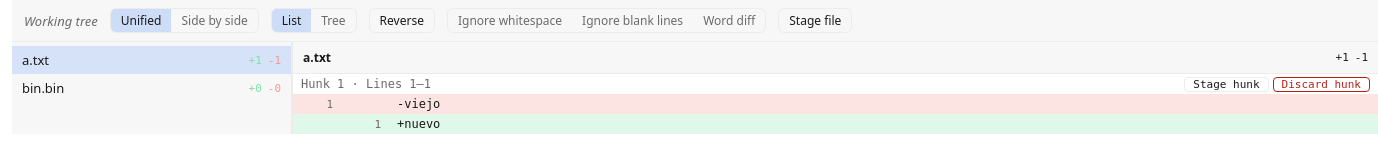
DiffView › hides stage and discard with the reversed diff
Click the button "Unified" at (141, 20), box [111, 9, 172, 32]
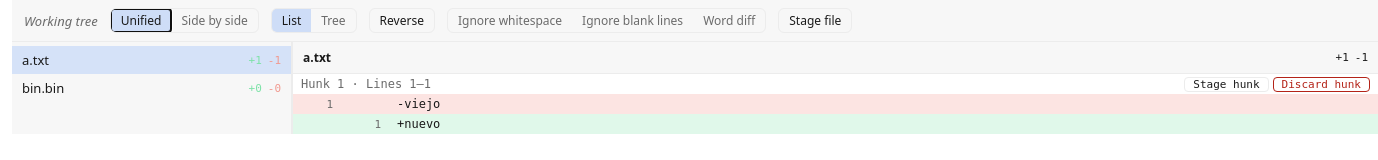
Check: the button "Stage hunk" is shown, box [1184, 76, 1268, 92]
Click the button "Reverse" at (402, 20), box [369, 8, 435, 33]
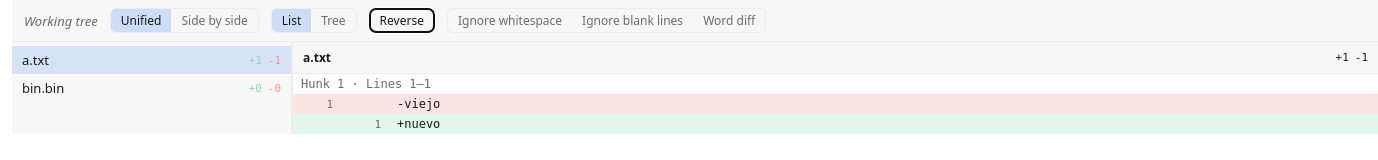
Check: the button "Stage hunk" is gone
Check: the button "Discard hunk" is gone
Check: the button "Stage file" is gone
